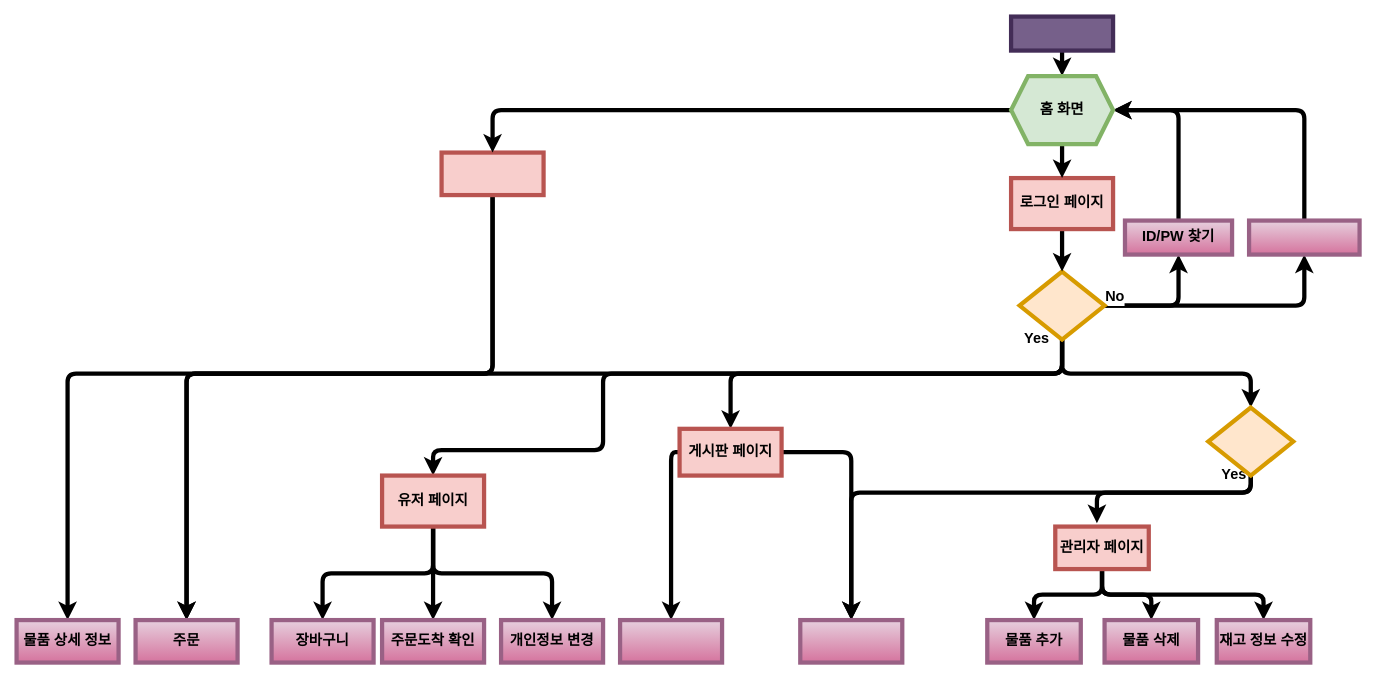
Image size: 1376x679. Some labels were removed from this diagram. Each missing label, with the box of its shape:
게시글 생성/수정/삭제: (618, 618, 724, 664)
공지사항 게시: (798, 618, 904, 664)
관리자: (1206, 405, 1295, 477)
로그인: (1017, 269, 1106, 341)
물품 페이지: (439, 150, 545, 197)
시작: (1009, 14, 1115, 52)
회원가입 페이지: (1247, 218, 1361, 256)
